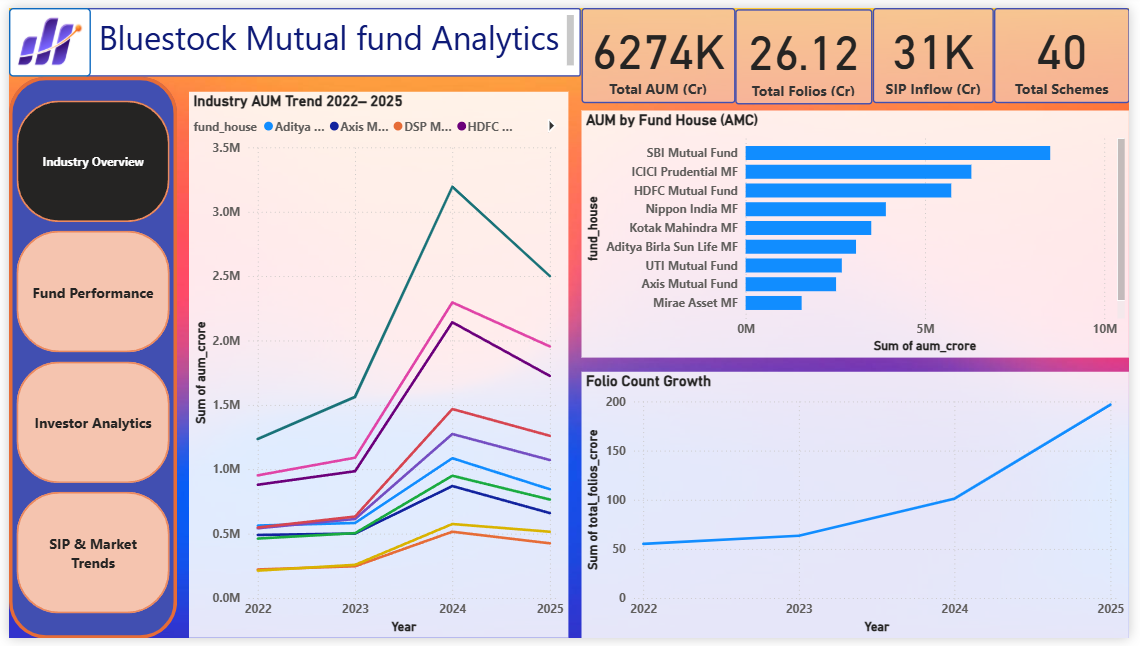

What the dashboard file says about the page in this screenshot:
{"tool":"powerbi","page":{"name":"Industry Overview","canvas":[1280,720],"ordinal":0},"visuals":[{"type":"card","fields":{"Values":["_Measures.Total AUM Crore"]},"box":[654.5,0,175.6,108.4],"z":0},{"type":"card","fields":{"Values":["_Measures.Latest SIP Inflow"]},"box":[986.6,0,138.6,108.4],"z":1000},{"type":"card","fields":{"Values":["_Measures.Total Schemes"]},"box":[1125.2,0,155.1,108.4],"z":2000},{"type":"card","fields":{"Values":["_Measures.Latest Folios Crore"]},"box":[830.2,1.4,156.4,108.4],"z":3000},{"type":"lineChart","title":"Industry AUM Trend 2022– 2025","fields":{"Y":["Sum(fact_aum.aum_crore)"],"Series":["fact_aum.fund_house"],"Category":["fact_aum.date.Variation.Date Hierarchy.Year","fact_aum.date.Variation.Date Hierarchy.Quarter","fact_aum.date.Variation.Date Hierarchy.Month","fact_aum.date.Variation.Date Hierarchy.Day"]},"box":[205.8,96.1,433.6,624.4],"z":4000},{"type":"textbox","box":[87.8,0,566.7,78.2],"z":5000},{"type":"clusteredBarChart","title":"AUM by Fund House (AMC)","fields":{"Category":["fact_aum.fund_house"],"Y":["Sum(fact_aum.aum_crore)"]},"box":[654.5,116.6,625.7,282.7],"z":6000},{"type":"lineChart","title":"Folio Count Growth","fields":{"Category":["fact_folio.month.Variation.Date Hierarchy.Year","fact_folio.month.Variation.Date Hierarchy.Quarter","fact_folio.month.Variation.Date Hierarchy.Month","fact_folio.month.Variation.Date Hierarchy.Day"],"Y":["Sum(fact_folio.total_folios_crore)"]},"box":[654.5,415.8,625.7,304.6],"z":7000},{"type":"image","box":[0,0,93.3,78.2],"z":8000},{"type":"shape","box":[0,78.2,192.1,642.2],"z":9000},{"type":"pageNavigator","box":[8.2,105.7,175.6,587.3],"z":10000}]}

Visuals, with their boxes in screenshot pixels (x1, y1, x2, y2), scaled from the page's 1280x720 canvas onto the 1140x646 screenshot:
card - _Measures.Total AUM Crore: bbox=[583, 0, 739, 97]
card - _Measures.Latest SIP Inflow: bbox=[879, 0, 1002, 97]
card - _Measures.Total Schemes: bbox=[1002, 0, 1139, 97]
card - _Measures.Latest Folios Crore: bbox=[739, 1, 879, 99]
"Industry AUM Trend 2022– 2025" lineChart: bbox=[183, 86, 569, 645]
textbox: bbox=[78, 0, 583, 70]
"AUM by Fund House (AMC)" clusteredBarChart: bbox=[583, 105, 1139, 358]
"Folio Count Growth" lineChart: bbox=[583, 373, 1139, 645]
image: bbox=[0, 0, 83, 70]
shape: bbox=[0, 70, 171, 645]
pageNavigator: bbox=[7, 95, 164, 622]
